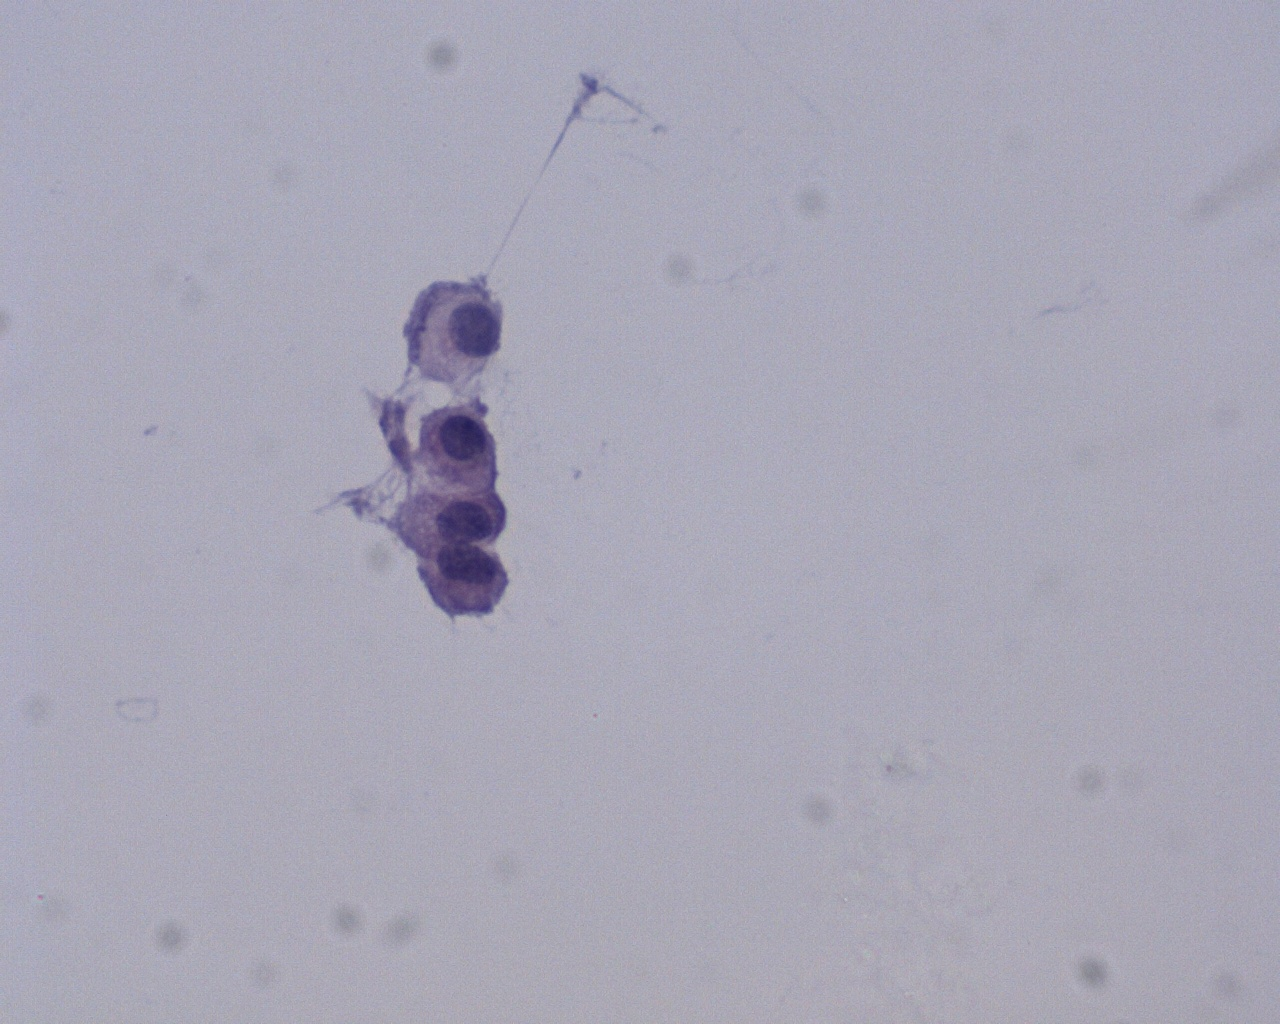ab: (408, 406, 502, 489), (394, 484, 509, 549), (417, 544, 511, 622)
